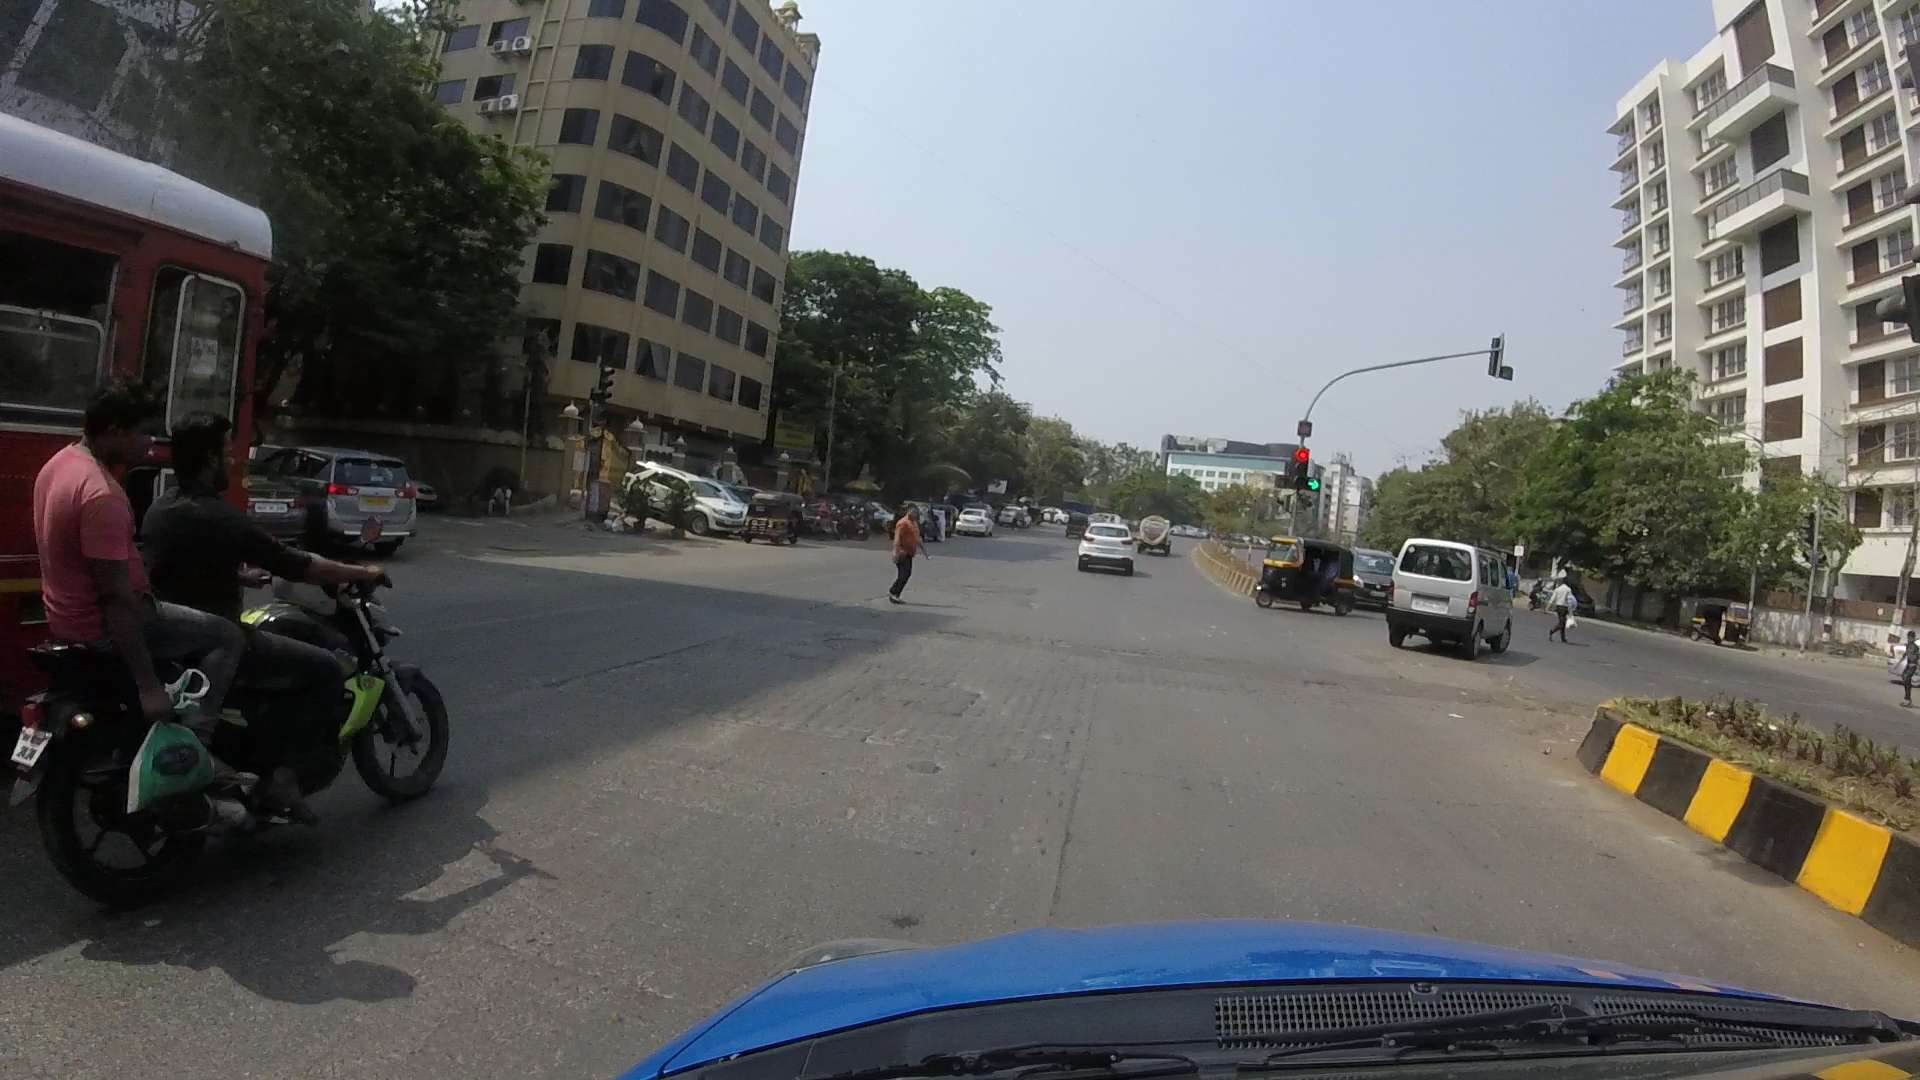bike/scooter: (44, 401, 440, 884), (869, 501, 924, 611)
bus: (5, 123, 262, 611)
car: (1390, 524, 1516, 663), (313, 442, 400, 545), (1069, 510, 1134, 578)
